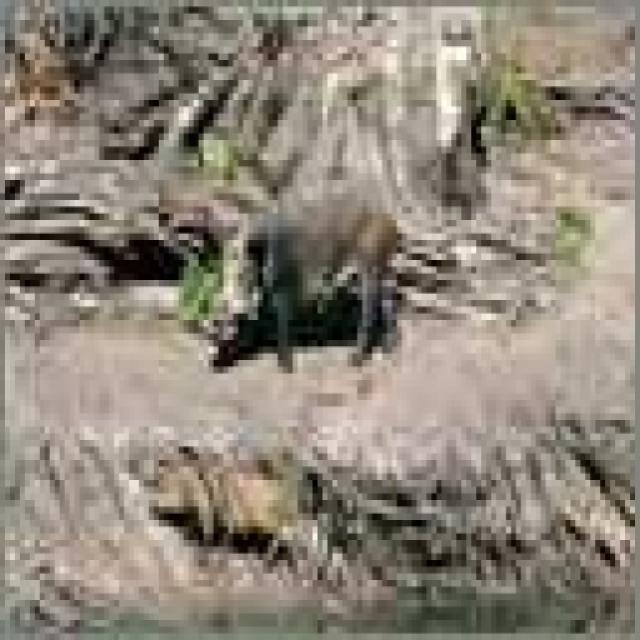pig: (218, 182, 427, 370)
